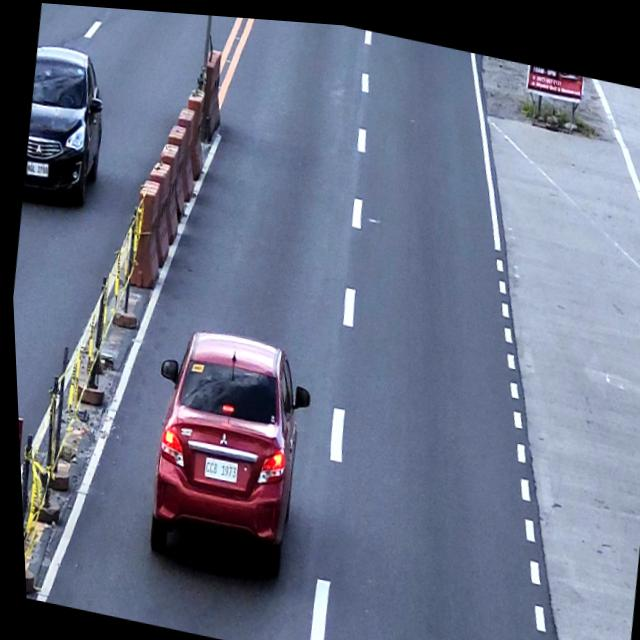Car: (130, 314, 320, 578), (16, 38, 115, 209)
License-Plate: (197, 451, 235, 481), (23, 159, 49, 178)
